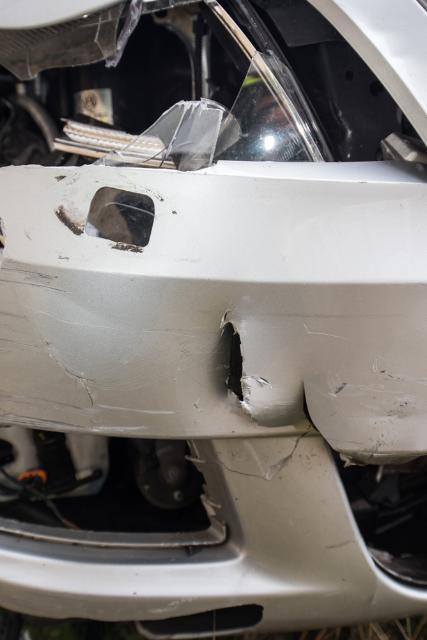crack: (213, 309, 334, 482)
lamp broken: (0, 0, 427, 170)
no part: (0, 426, 211, 536)
scratch: (0, 258, 189, 439), (324, 358, 427, 457)
